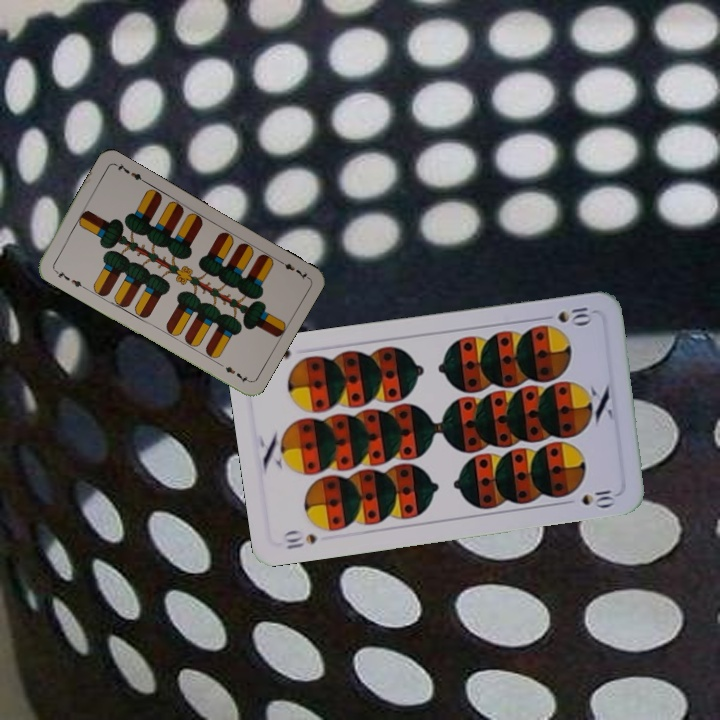E7: (273, 255, 311, 282), (49, 266, 87, 291)
S10: (537, 302, 594, 327), (280, 527, 320, 552)
